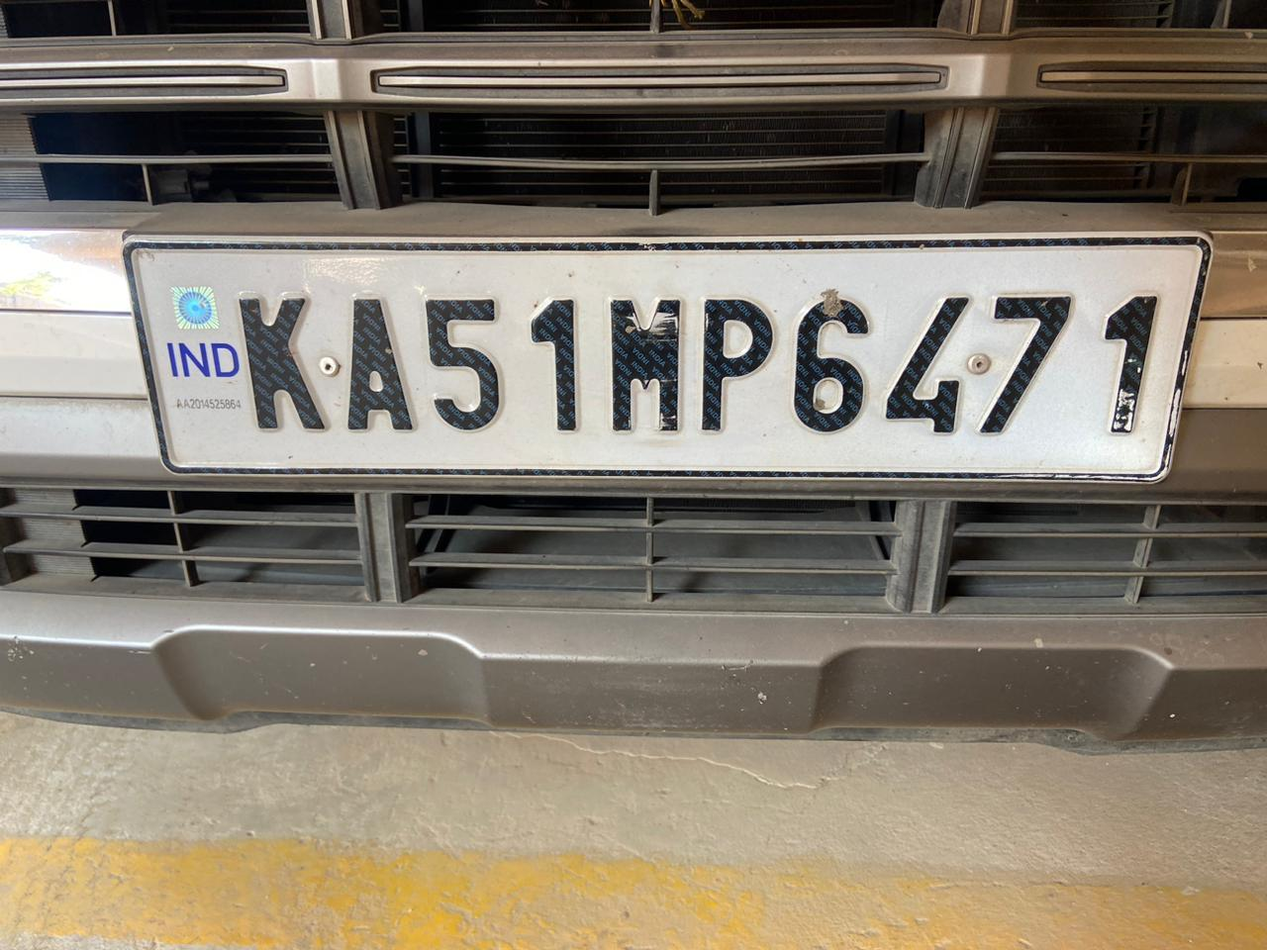1: (1087, 279, 1163, 445), (519, 285, 587, 445)
4: (875, 285, 983, 444)
5: (416, 277, 506, 436)
6: (776, 287, 880, 437)
7: (976, 276, 1081, 450)
A: (329, 285, 430, 445)
K: (228, 281, 335, 450)
M: (596, 287, 687, 444)
P: (691, 289, 783, 447)
